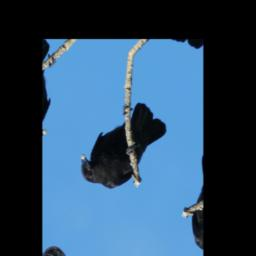Crow: (73, 82, 172, 211)
